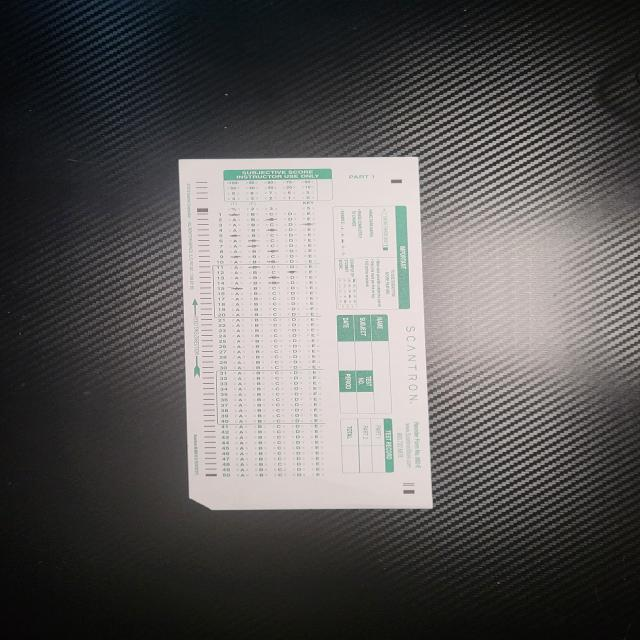scantron: (179, 158, 432, 509)
